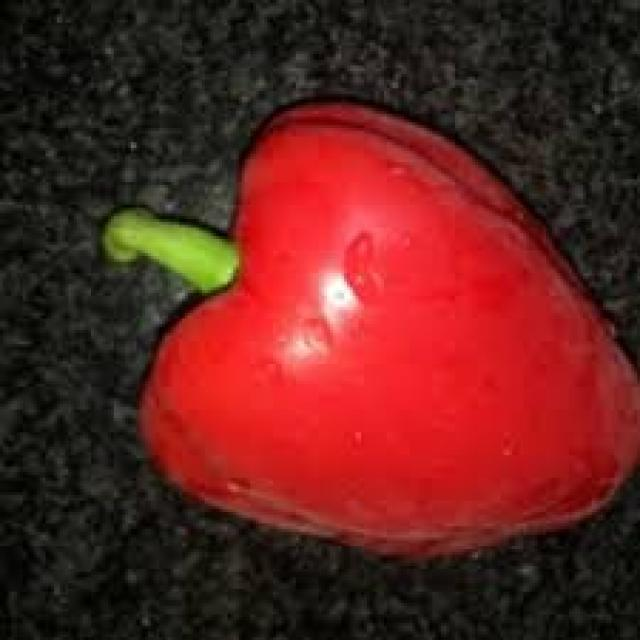Pepper: (128, 95, 640, 562)
